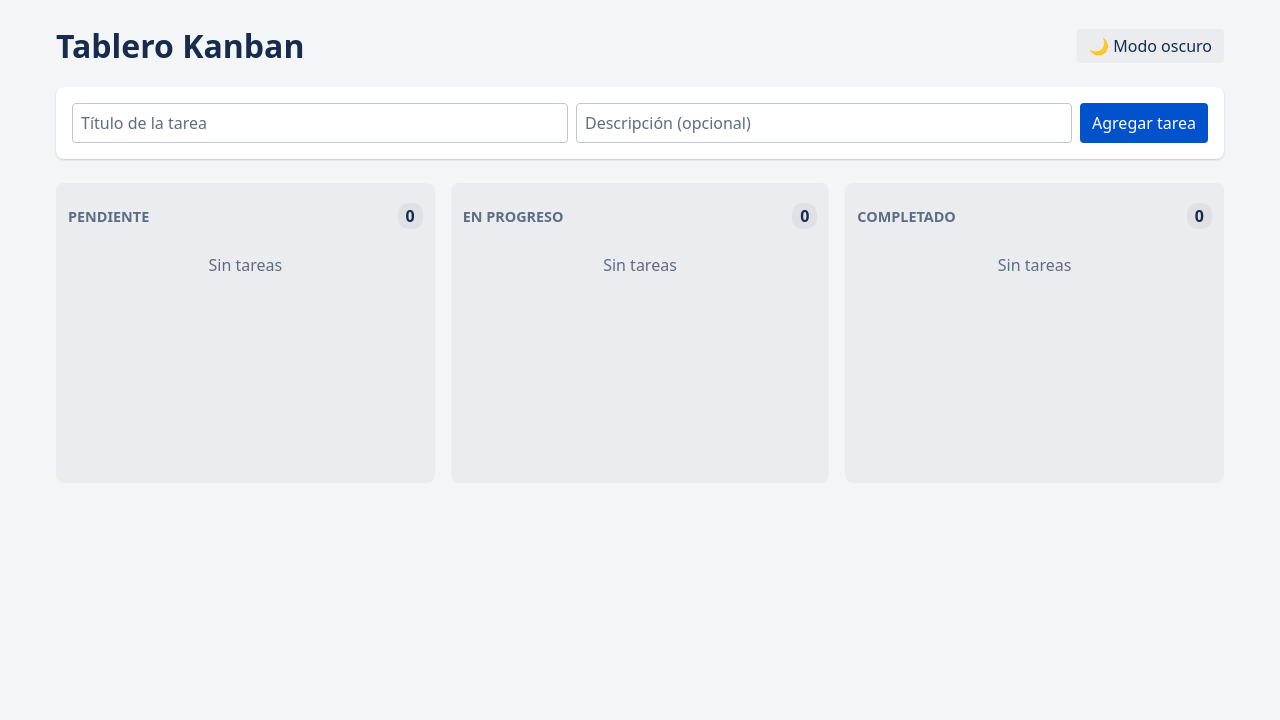
Test case: Modo oscuro › alterna entre tema claro y oscuro
Later steps or results of the test are not shown.
Click the button with aria-label "Cambiar tema".
click(1151, 46)  # box 1077,28 -> 1224,62
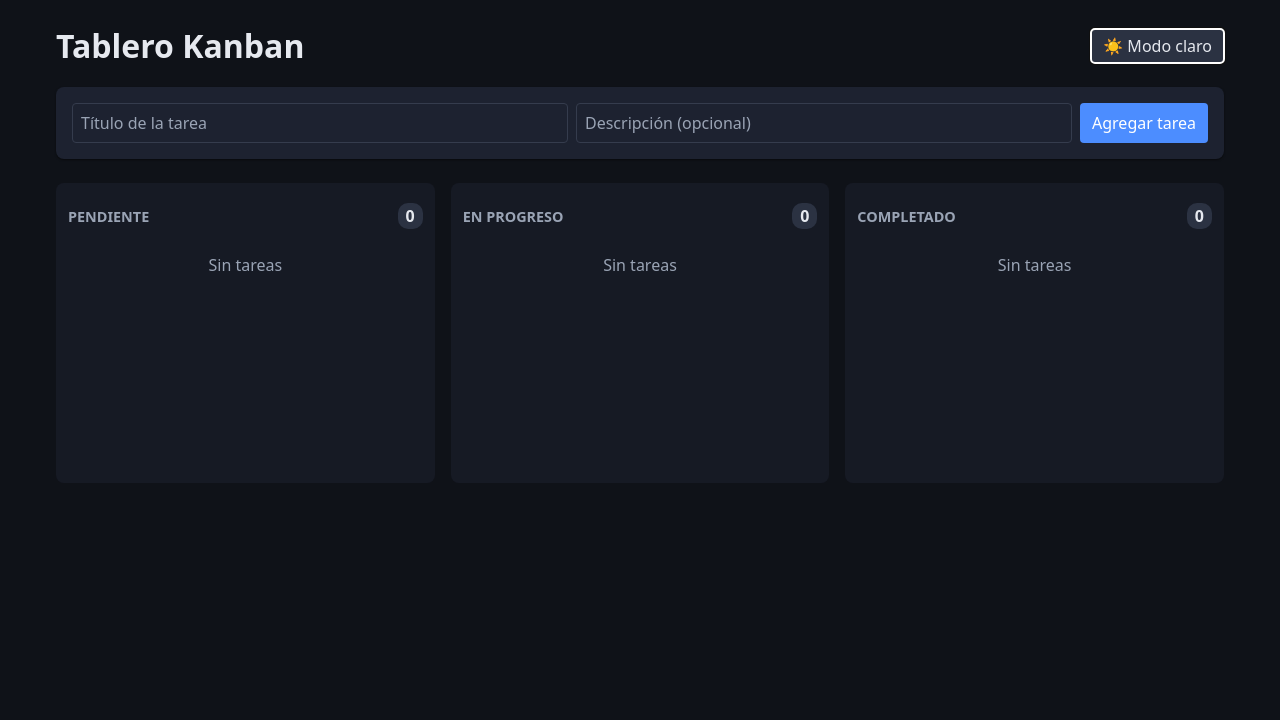
Result: the button with aria-label "Cambiar tema" shows "Modo claro" at 1091,28 -> 1224,62
